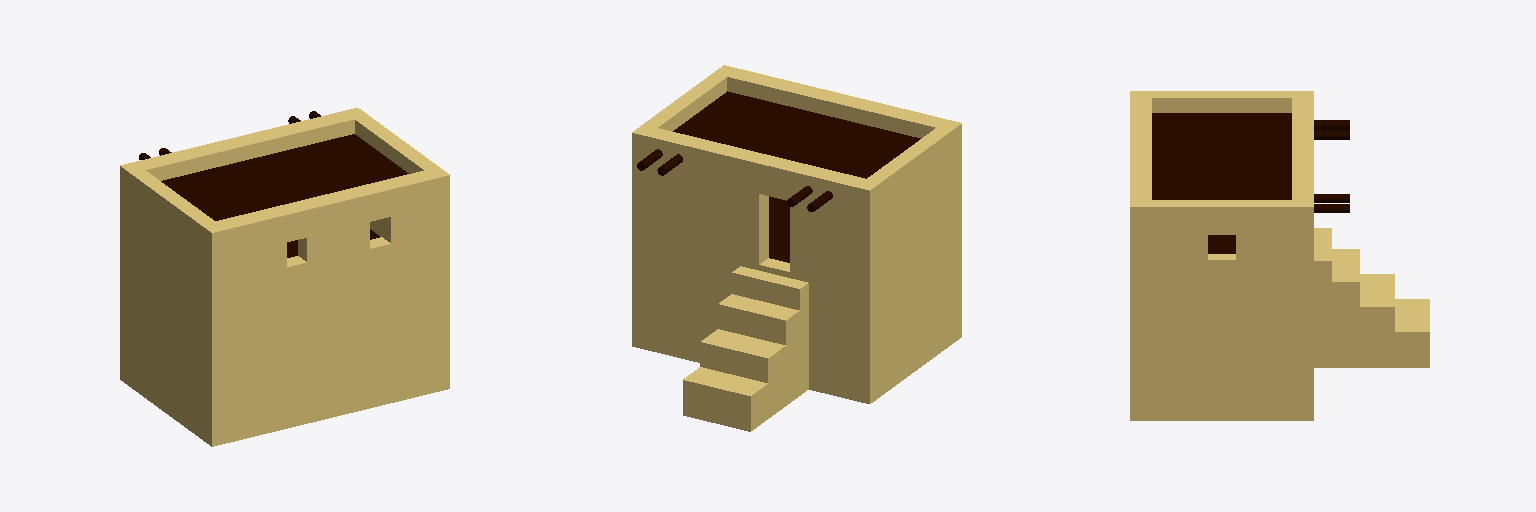
Rendered from shoe_box2.obj.
3 views of the same model, side by side, from view 1: azimuth 30°, elevation 25°; view 2: azimuth 150°, elevation 25°; view 3: azimuth 270°, elevation 25° (orthographic).
Visible parts, largest first — view 1: shoe_box.002; view 2: shoe_box.002; view 3: shoe_box.002.
Boxes of the visible parts, x1,y1,x2,y2 form: shoe_box.002: [120, 108, 449, 446]; shoe_box.002: [632, 65, 961, 431]; shoe_box.002: [1130, 91, 1429, 420].
Size of the model in its own units: 7 by 6 by 7.65.